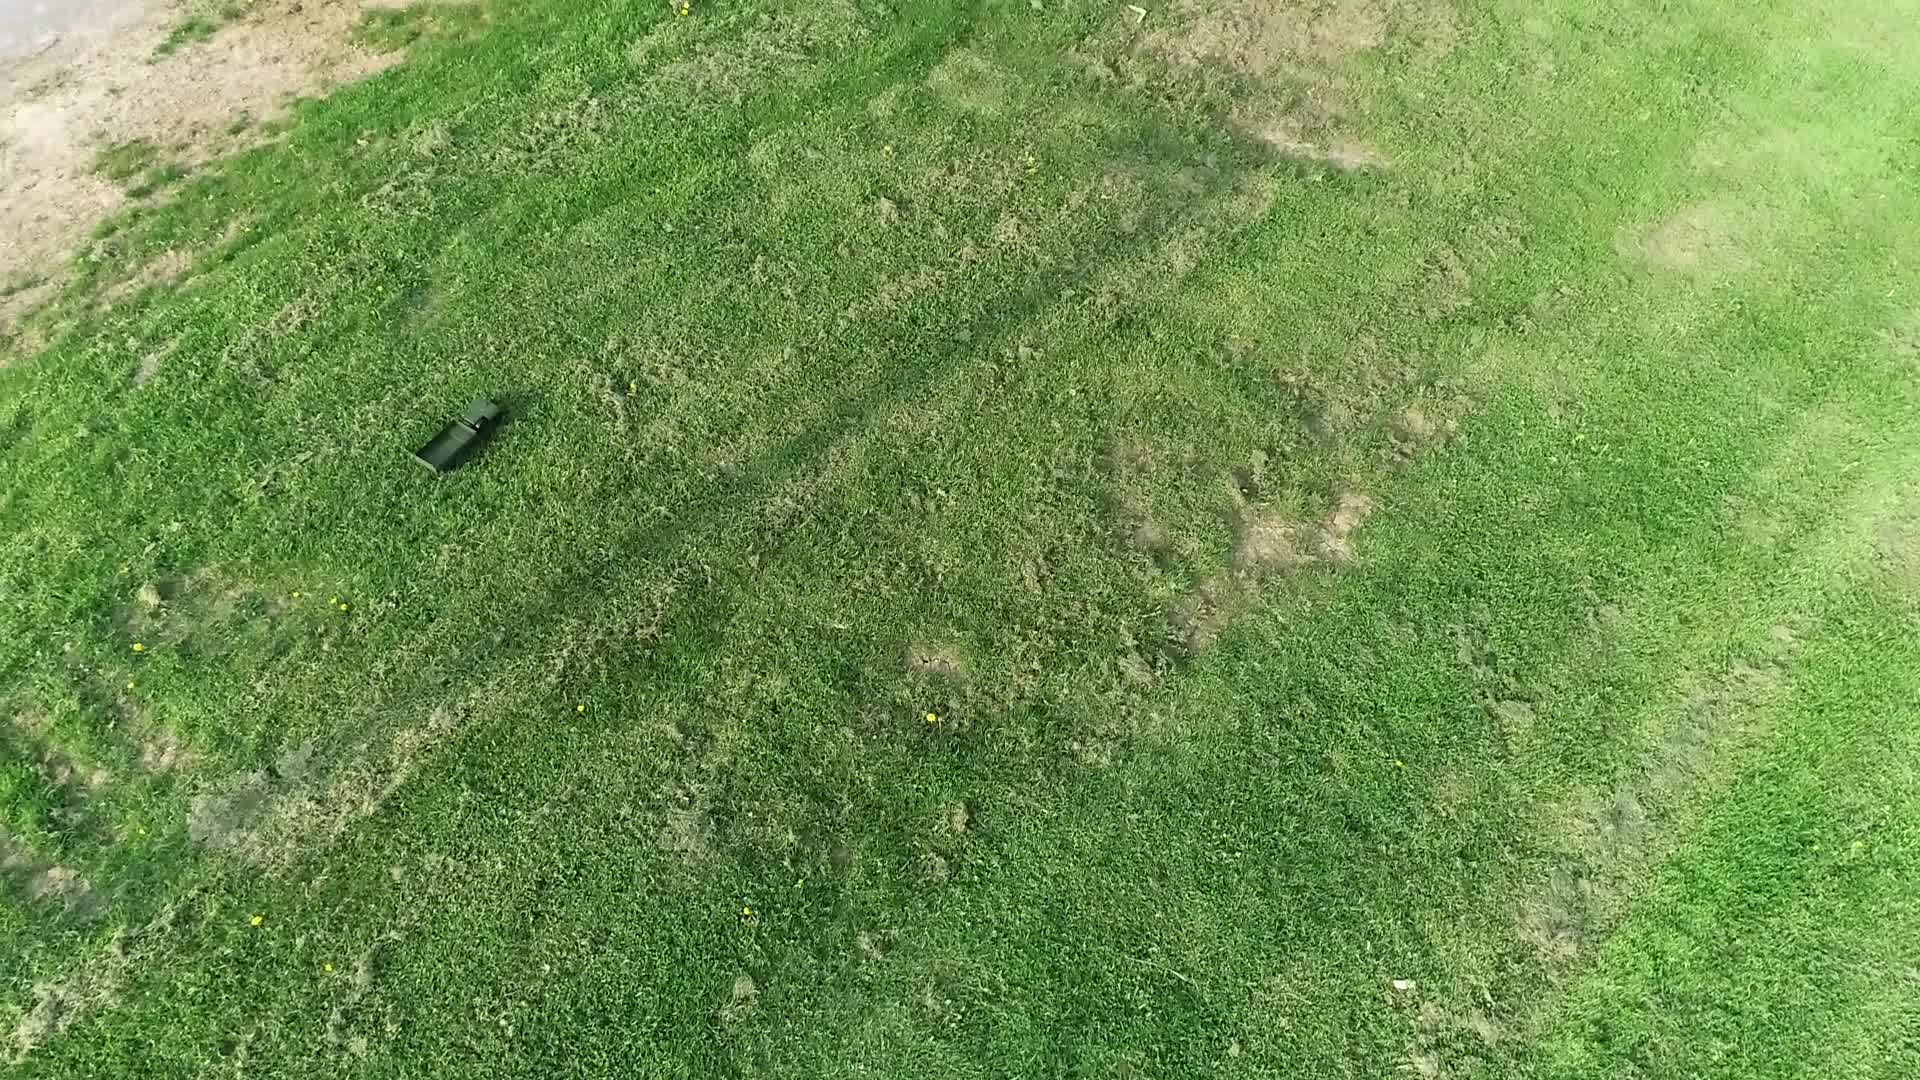transporter9: (404, 388, 505, 479)
